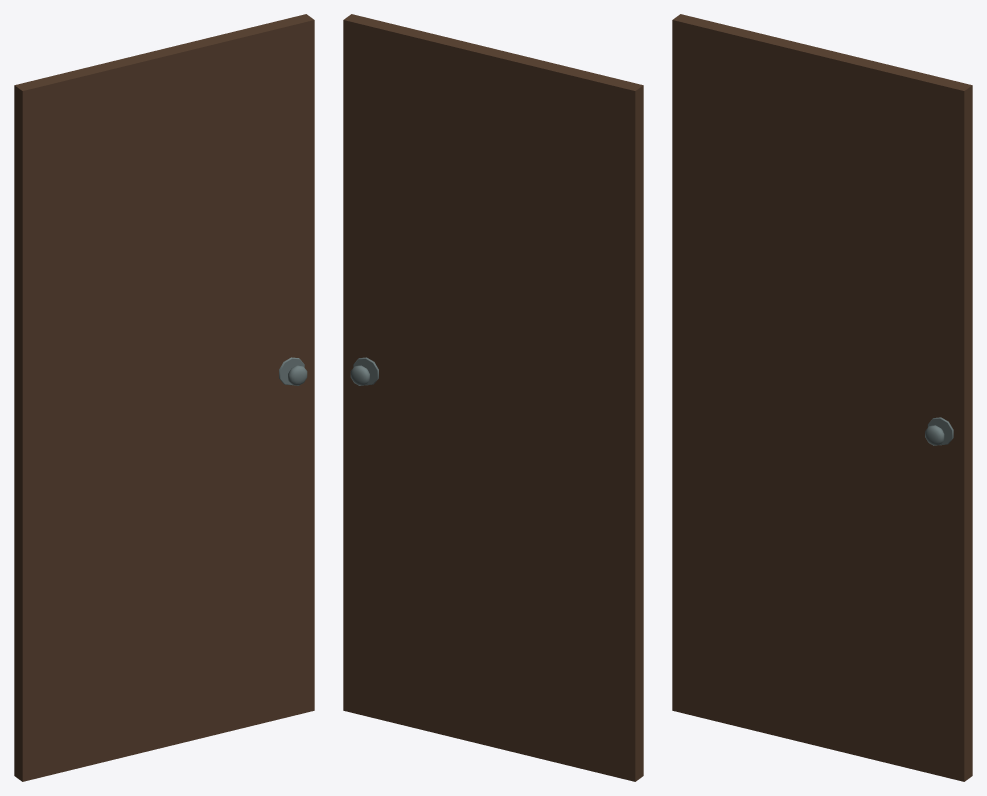
The model's file is Doorway_Ext_Door1.fbx.
The picture shows the model from 3 angles, left to right: view 1: azimuth 30°, elevation 25°; view 2: azimuth 150°, elevation 25°; view 3: azimuth 330°, elevation 25°; orthographic projection.
Visible parts, largest first — view 1: Door (Exterior); view 2: Door (Exterior); view 3: Door (Exterior).
Boxes of the visible parts, x1,y1,x2,y2 form: Door (Exterior): (14,14,314,781); Door (Exterior): (343,14,643,781); Door (Exterior): (672,14,972,781).
Size of the model in its own units: 87.67 by 198 by 13.96.
